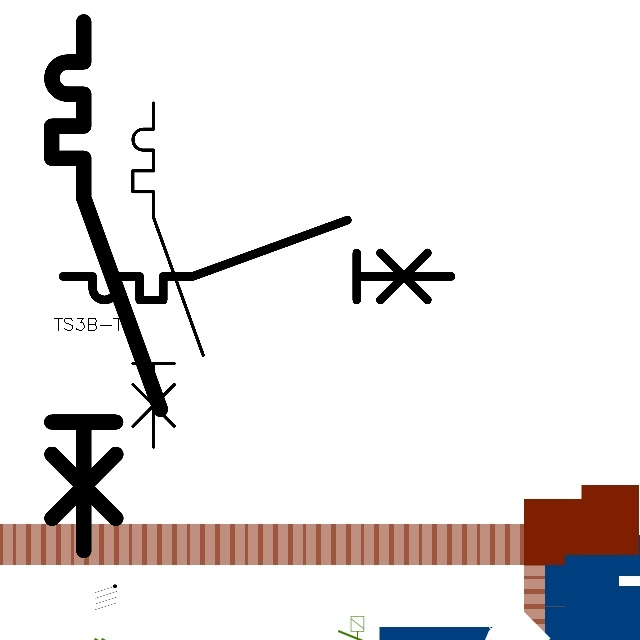interruptor_termomagnetico: (38, 8, 174, 564), (53, 210, 461, 310), (124, 94, 212, 456)
